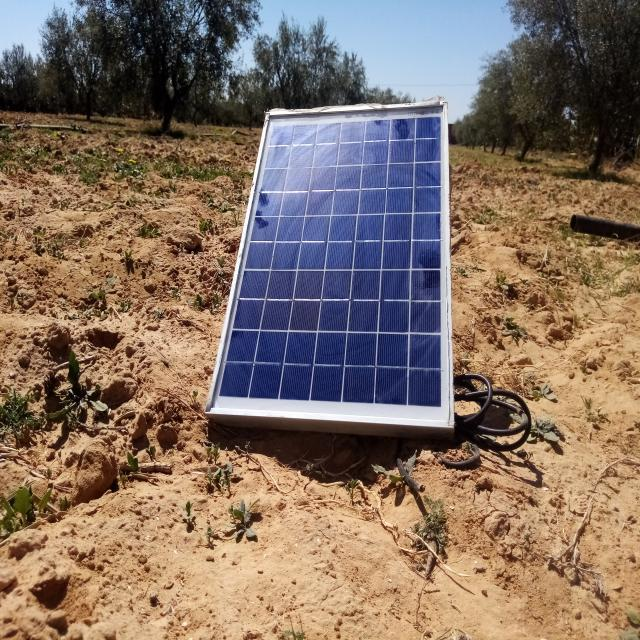no faulty: (207, 104, 451, 425)
